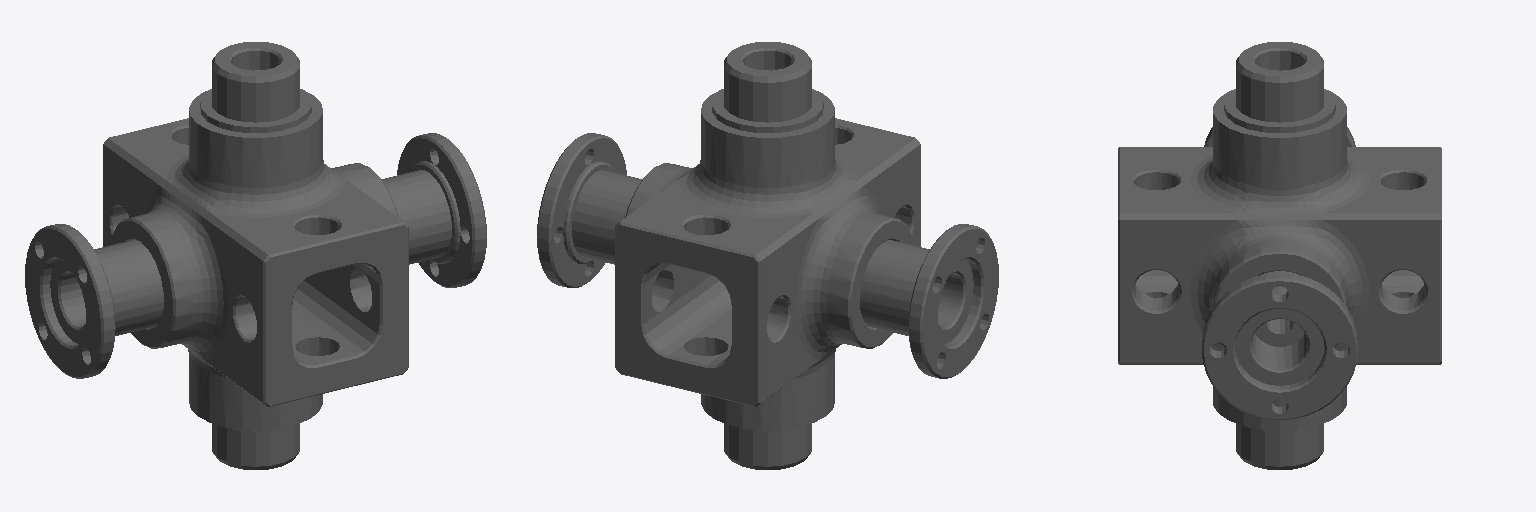
File: left_foot_pitch_link.obj
3 views of the same model, side by side, from view 1: azimuth 30°, elevation 25°; view 2: azimuth 150°, elevation 25°; view 3: azimuth 270°, elevation 25° (orthographic).
Visible parts, largest first — view 1: left_foot_pitch_link; view 2: left_foot_pitch_link; view 3: left_foot_pitch_link.
Boxes of the visible parts, <box> form: left_foot_pitch_link: <box>25,42,486,469</box>; left_foot_pitch_link: <box>537,42,998,469</box>; left_foot_pitch_link: <box>1118,42,1441,469</box>.
Bounding box in the file's own units: 0.0398 × 0.0388 × 0.029.